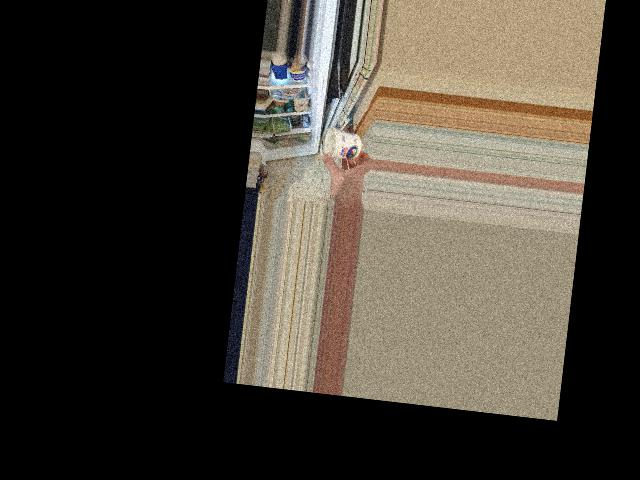cotage: (322, 126, 364, 163)
